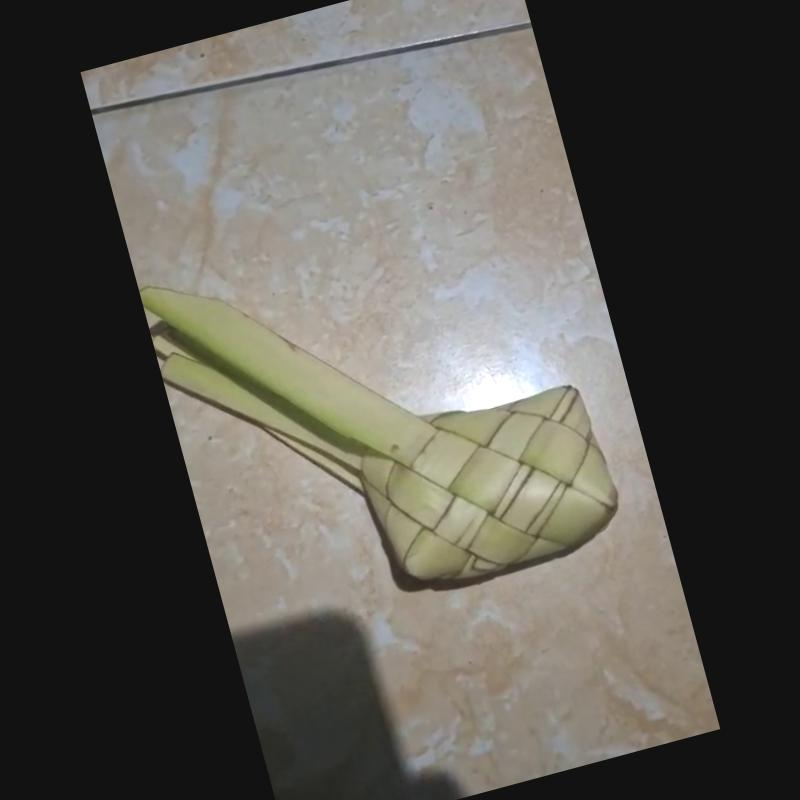Tipat Bantal: (145, 280, 621, 600)
